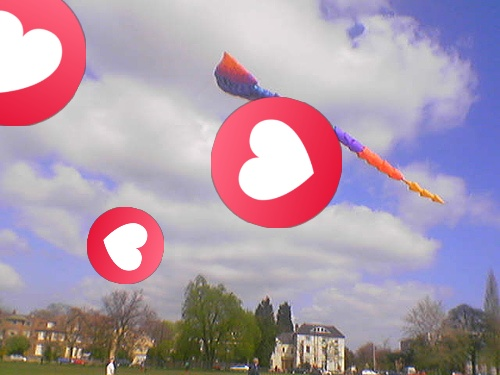love: (211, 97, 342, 228), (0, 0, 86, 126), (87, 207, 164, 284)
